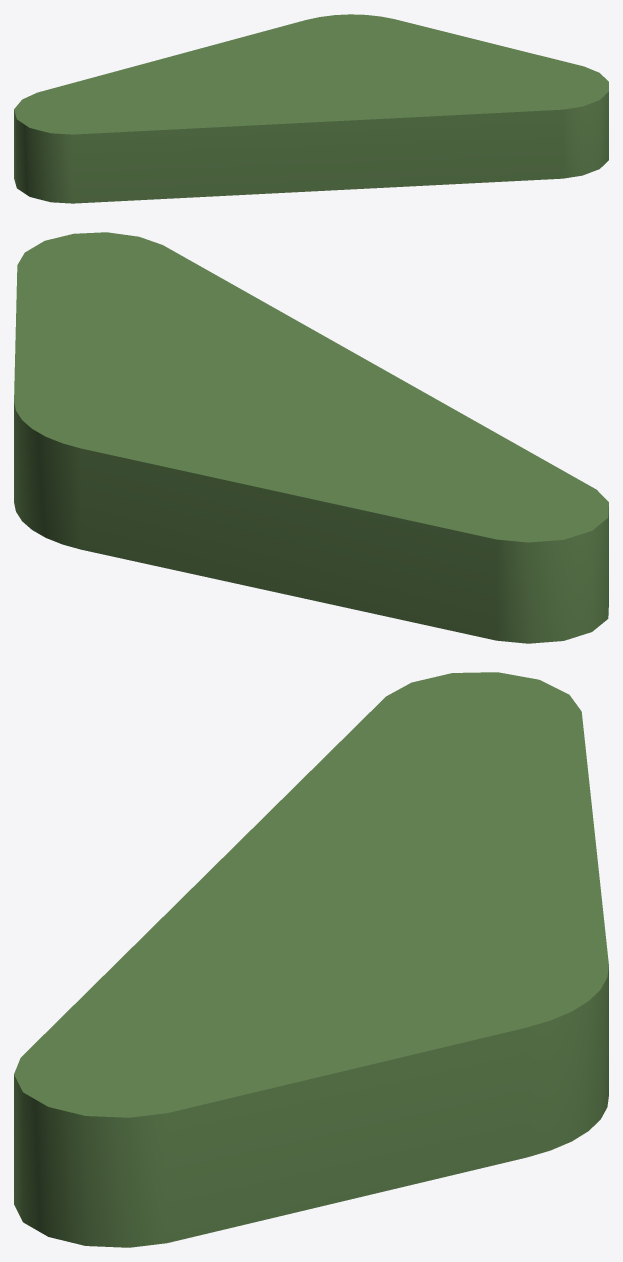
File: Slingshot_Collision.fbx
The picture shows the model from 3 angles, top to bottom: view 1: azimuth 30°, elevation 25°; view 2: azimuth 150°, elevation 25°; view 3: azimuth 270°, elevation 25°; orthographic projection. The views are drawn at different scales.
Visible parts, largest first — view 1: Slingshot_Collision; view 2: Slingshot_Collision; view 3: Slingshot_Collision.
Part boxes in pixels (x1,y1,x2,y2): Slingshot_Collision: (14,14,608,203); Slingshot_Collision: (14,232,608,643); Slingshot_Collision: (14,672,608,1247).
Bounding box in the file's own units: 0.3341 × 0.0455 × 0.1885.
